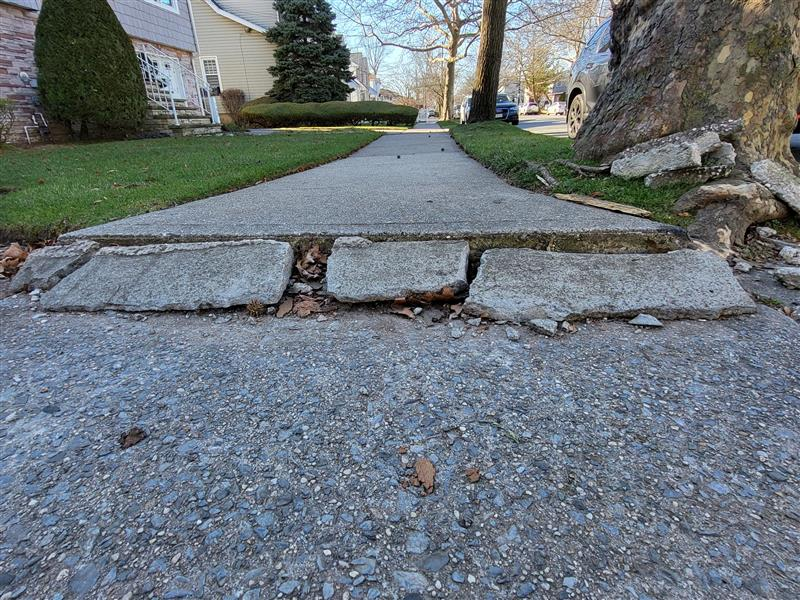Tree: (31, 1, 187, 151), (250, 1, 377, 130)
